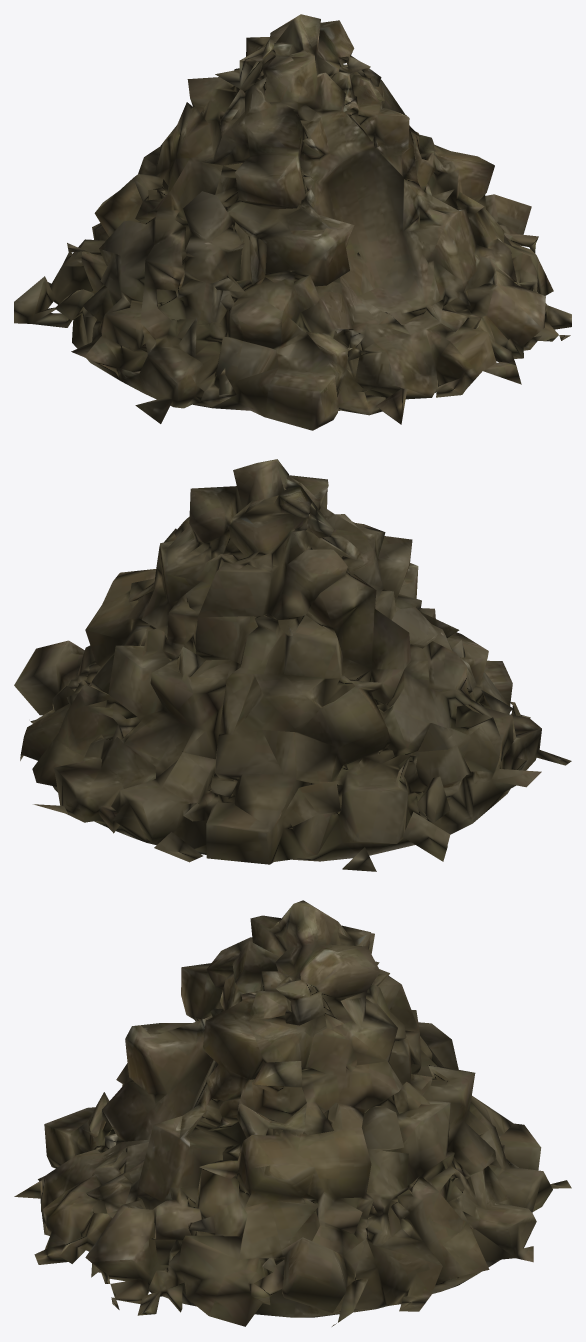
The model's file is rubble_large-tftAxxga.glb.
3 views of the same model, one above another, from view 1: azimuth 30°, elevation 25°; view 2: azimuth 150°, elevation 25°; view 3: azimuth 270°, elevation 25° (orthographic). The views are drawn at different scales.
Parts seen in each view (by area): view 1: rubble_large; view 2: rubble_large; view 3: rubble_large.
Part boxes in pixels (box(x1,y1,x2,y2)): rubble_large: box(14, 14, 571, 430); rubble_large: box(14, 459, 571, 871); rubble_large: box(14, 900, 571, 1326).
Size of the model in its own units: 6.79 by 4.14 by 6.65.
Materials: 1 (1 with a texture image).
